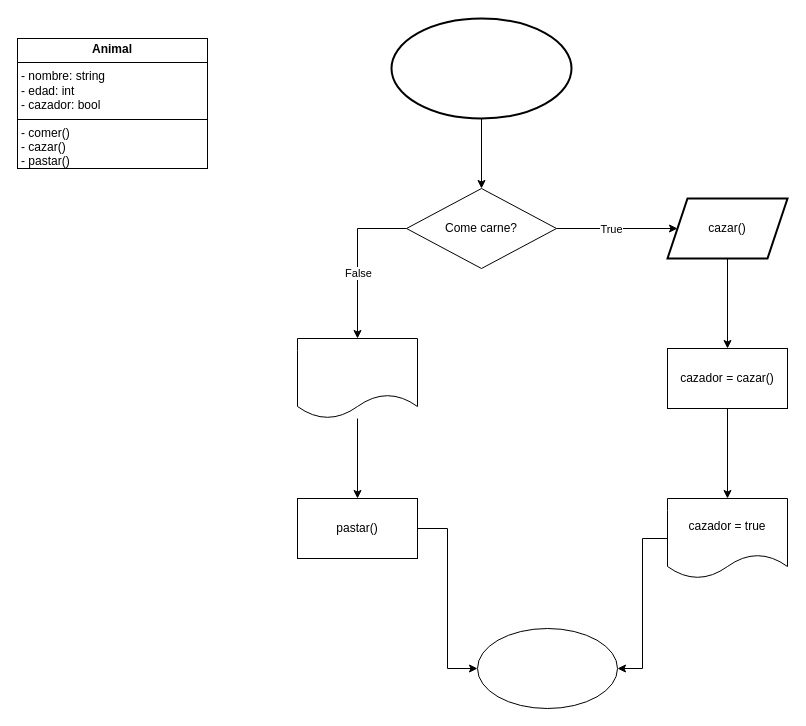
The diagram is 806 pixels wide and 726 high, and some of its shapes have lost their labels. The shapes that lost their labels are listed below. From the top down, each one's centre as x and y in pixels, then its label:
(481,68): comer()
(357,378): cazador = false
(547,668): comerFin
